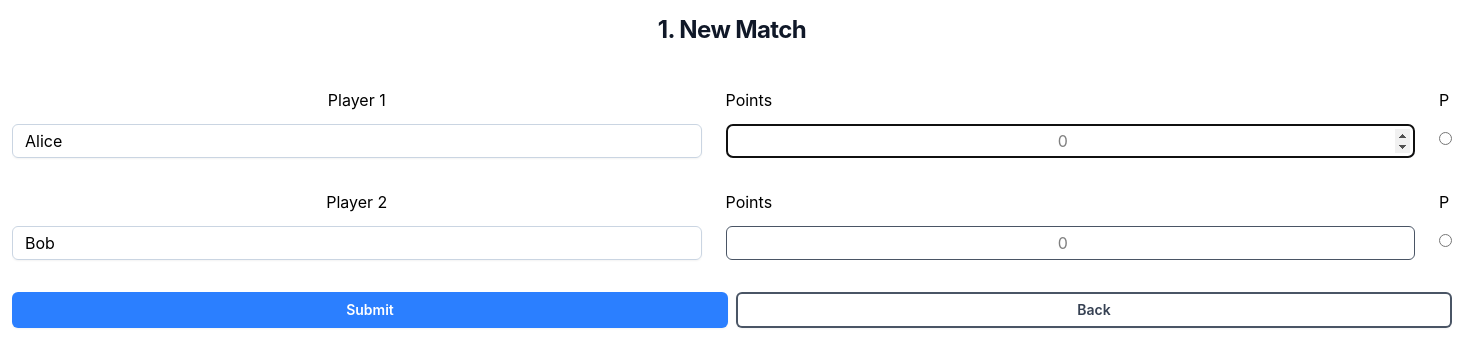
Test: AddMatch - Priority Wins › should show priority radio buttons when scores are equal
The width and height of the screenshot is (1464, 345).
// Set equal scores
Type "5" into the 1st number field labelled "Points". click: (1070, 141)
box: [726,124,1415,158]
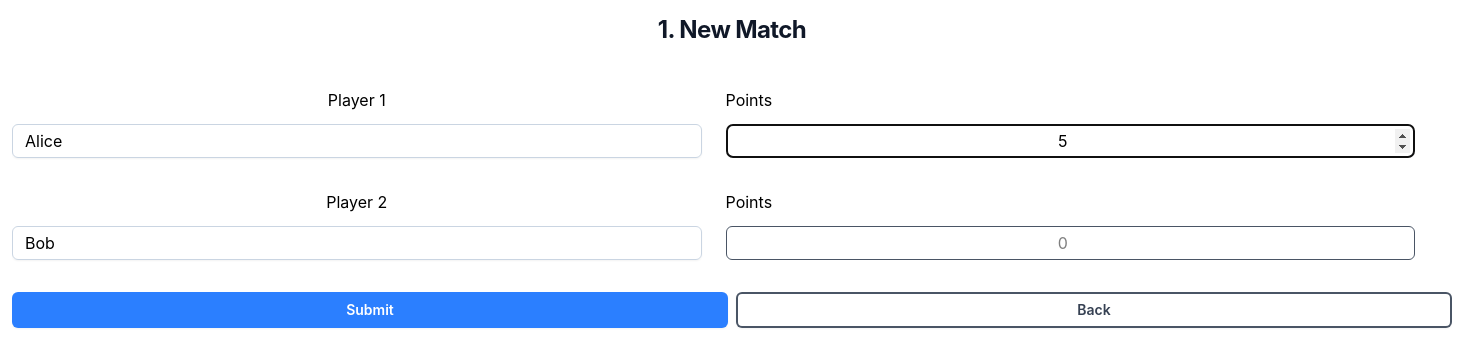
Type "5" into the 2nd number field labelled "Points". click: (1070, 243)
box: [726,226,1415,260]
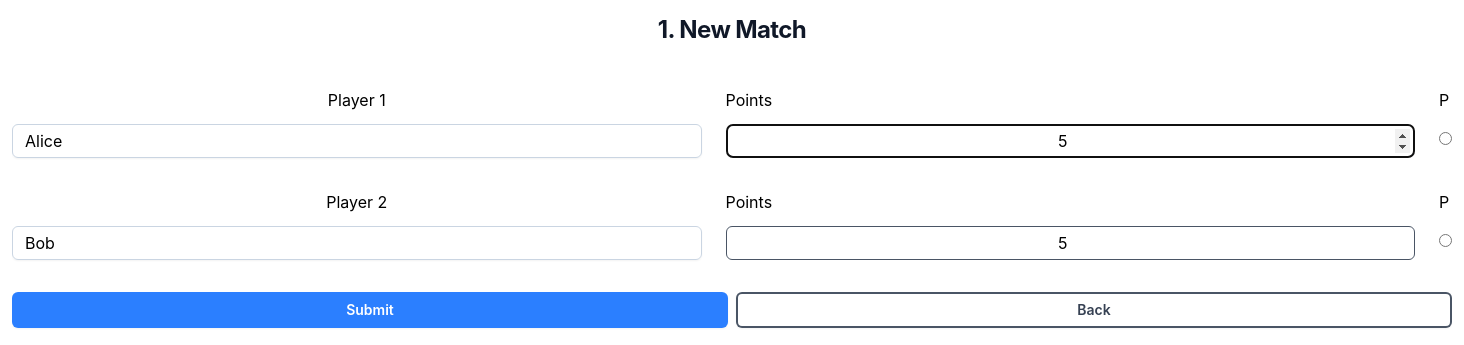
Check: the 1st radio button is enabled, box [1439,132,1452,145]
Check: the 2nd radio button is enabled, box [1439,234,1452,247]
